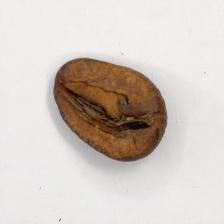NG: (62, 70, 156, 137)
